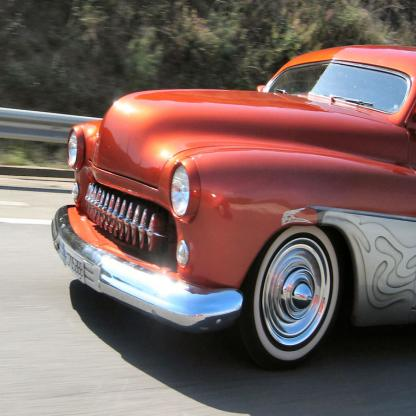Car: (52, 45, 416, 372)
